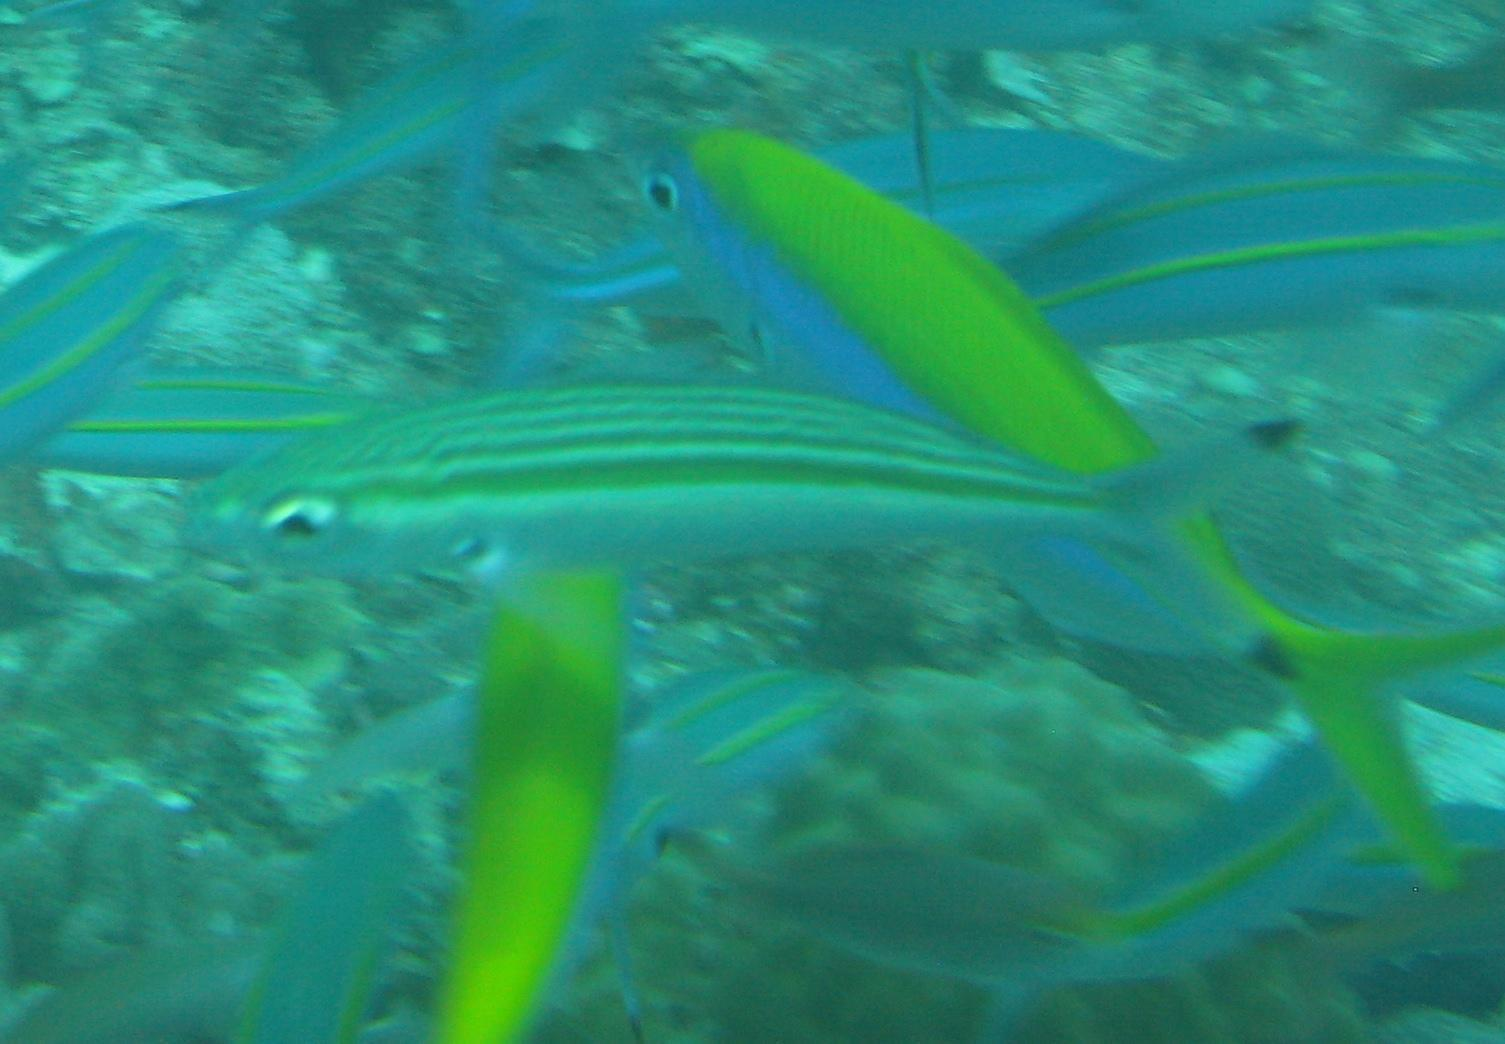Fish: (176, 356, 1328, 644)
